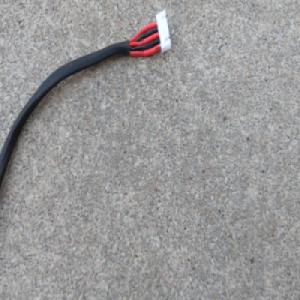Wire: (0, 5, 172, 194)
